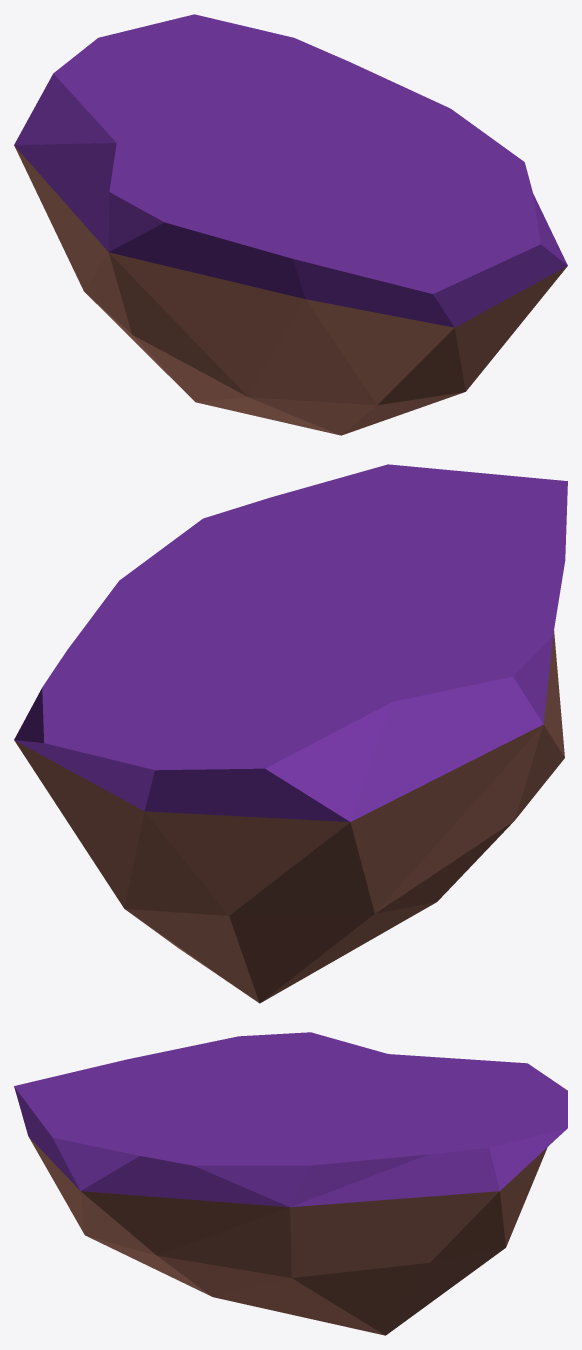
File: 01_02Island_Purple.fbx
The picture shows the model from 3 angles, top to bottom: view 1: azimuth 30°, elevation 25°; view 2: azimuth 150°, elevation 25°; view 3: azimuth 270°, elevation 25°; orthographic projection. The views are drawn at different scales.
Parts seen in each view (by area): view 1: Icosphere.022; view 2: Icosphere.022; view 3: Icosphere.022.
Boxes of the visible parts, <box> form: Icosphere.022: <box>14,14,567,435</box>; Icosphere.022: <box>14,464,567,1003</box>; Icosphere.022: <box>14,1032,567,1335</box>.
Size of the model in its own units: 171 by 117 by 281.
